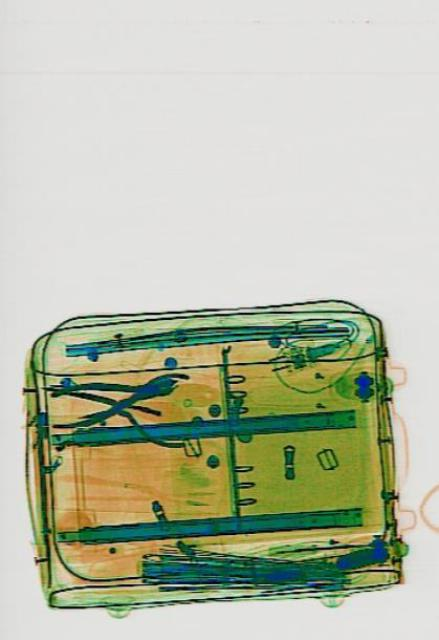Pliers: (48, 361, 177, 432), (78, 367, 188, 447)
